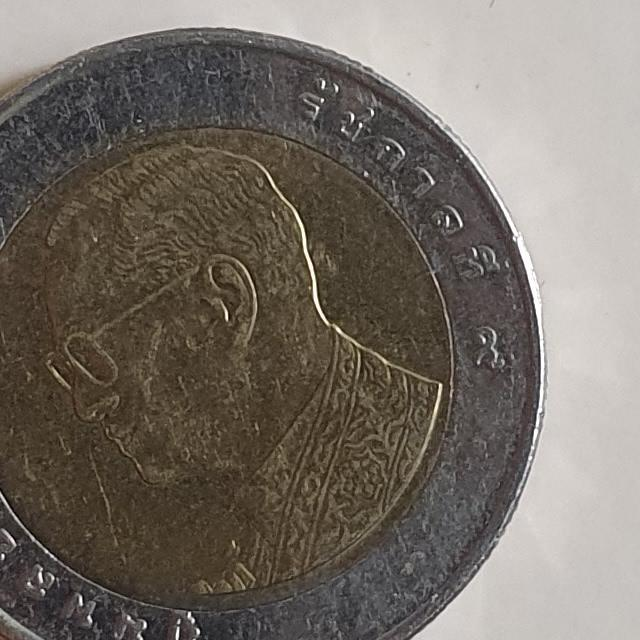10 Bath: (1, 18, 558, 640)
